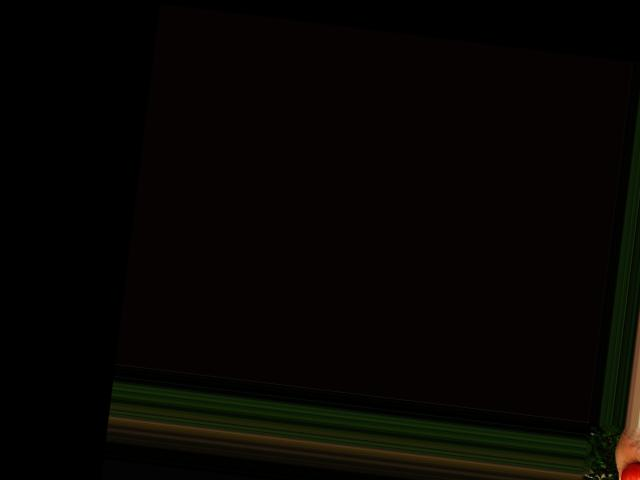tomato: (618, 461, 640, 480)
